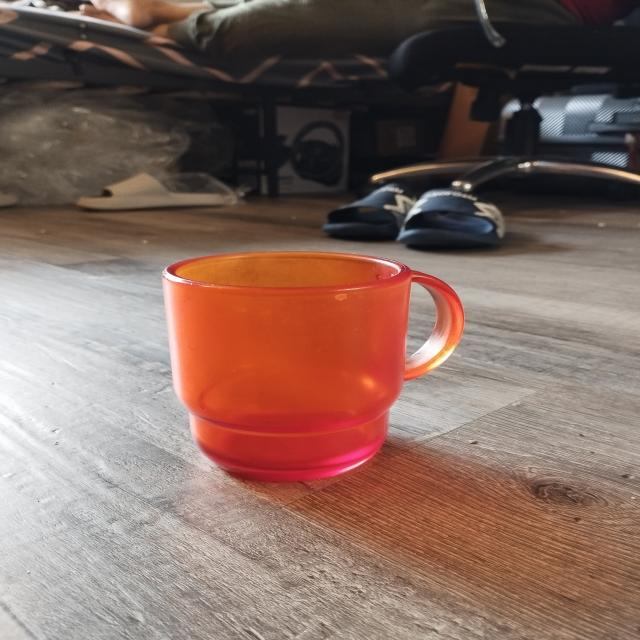Cup: (136, 240, 495, 478)
